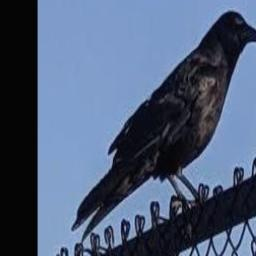Crow: (71, 10, 256, 244)
